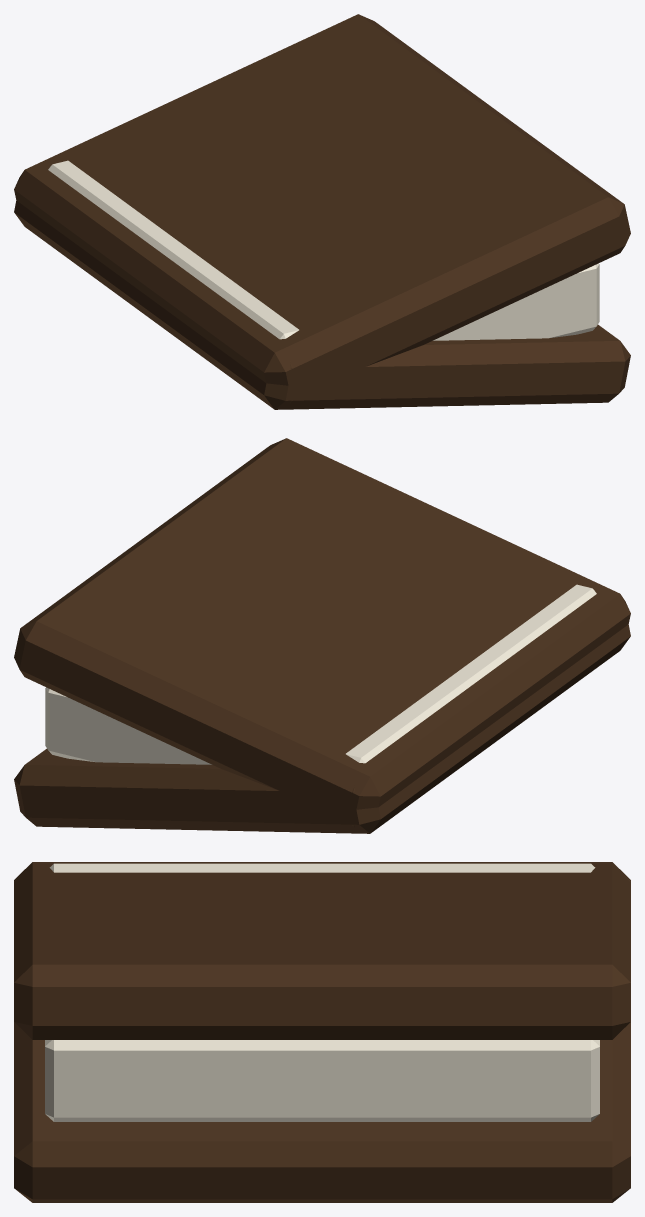
The model's file is fx_hymnal.fbx.
3 renders of one model, top to bottom at view 1: azimuth 30°, elevation 25°; view 2: azimuth 150°, elevation 25°; view 3: azimuth 270°, elevation 25°, orthographic. The views are drawn at different scales.
Visible parts, largest first — view 1: Prop; view 2: Prop; view 3: Prop.
Part boxes in pixels (<box>): Prop: <box>14,14,630,409</box>; Prop: <box>14,438,630,833</box>; Prop: <box>14,862,630,1202</box>.
Size of the model in its own units: 0.1592 by 0.2 by 0.0852.
